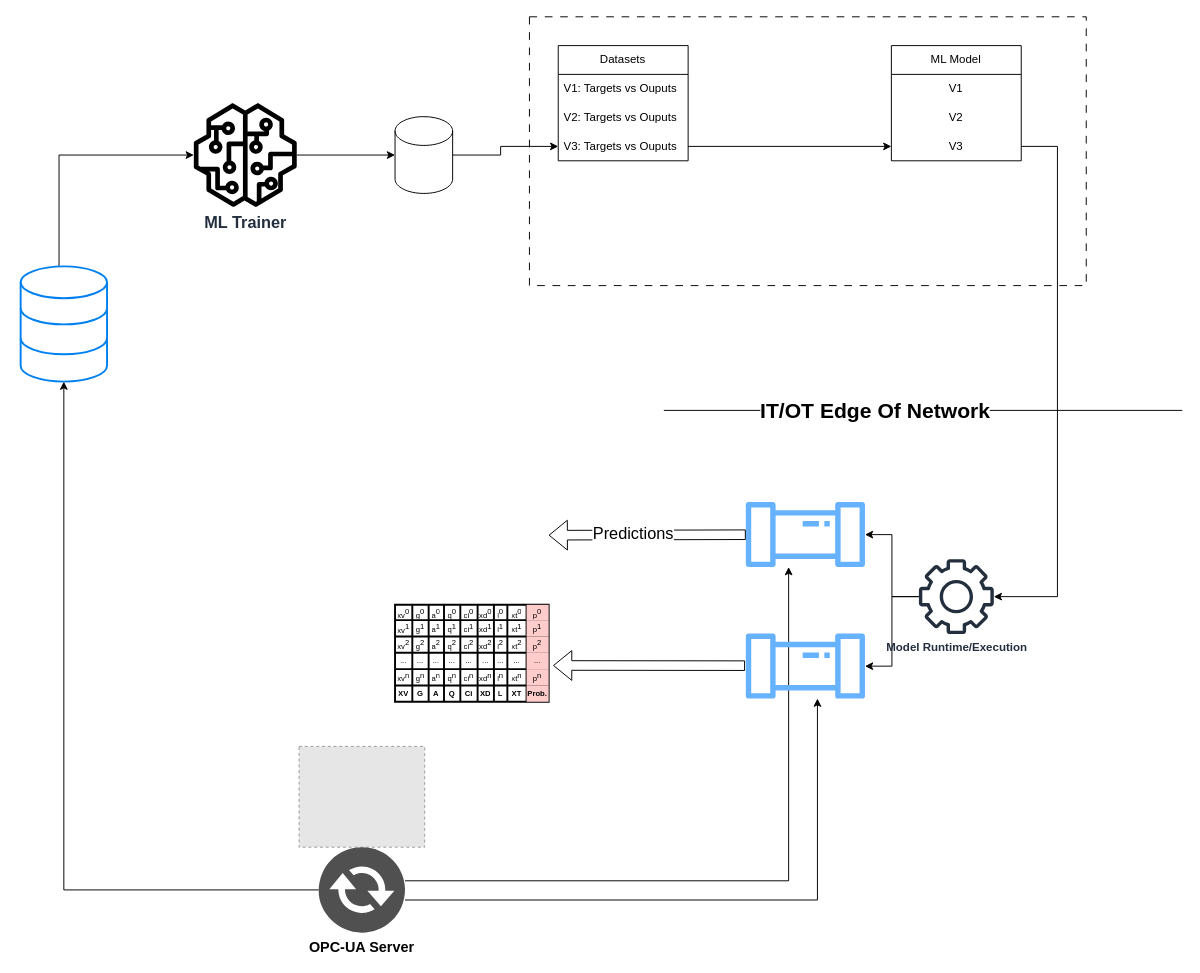
This 1200x973 diagram has some shape labels left out. Grey dashed boxes stand in for pictures. The shapes that lost their labels are listed below. From the top down, each one's box as (x1, y1, x2, y2) in pixels, then its label:
(394, 116, 453, 193): Hot Data
(528, 16, 1086, 286): Projects - 1, 2, 3, ... , N
(19, 265, 108, 382): Aveva PI Historian
